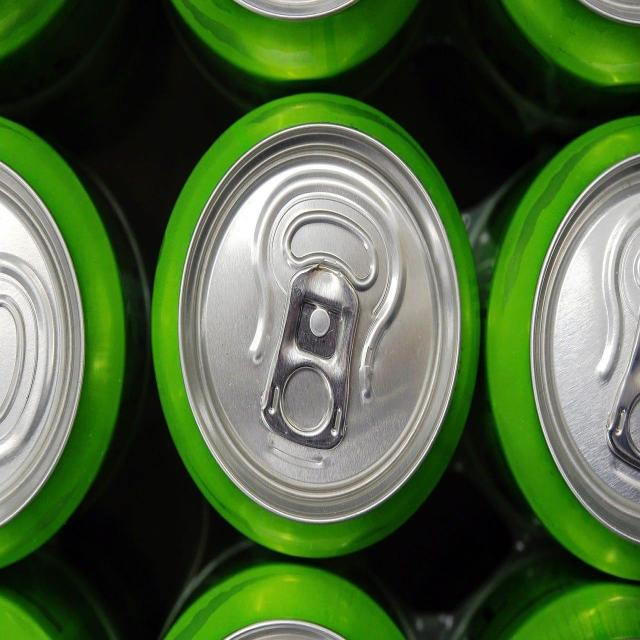can: (150, 86, 478, 552)
pop tab: (260, 265, 358, 440)
